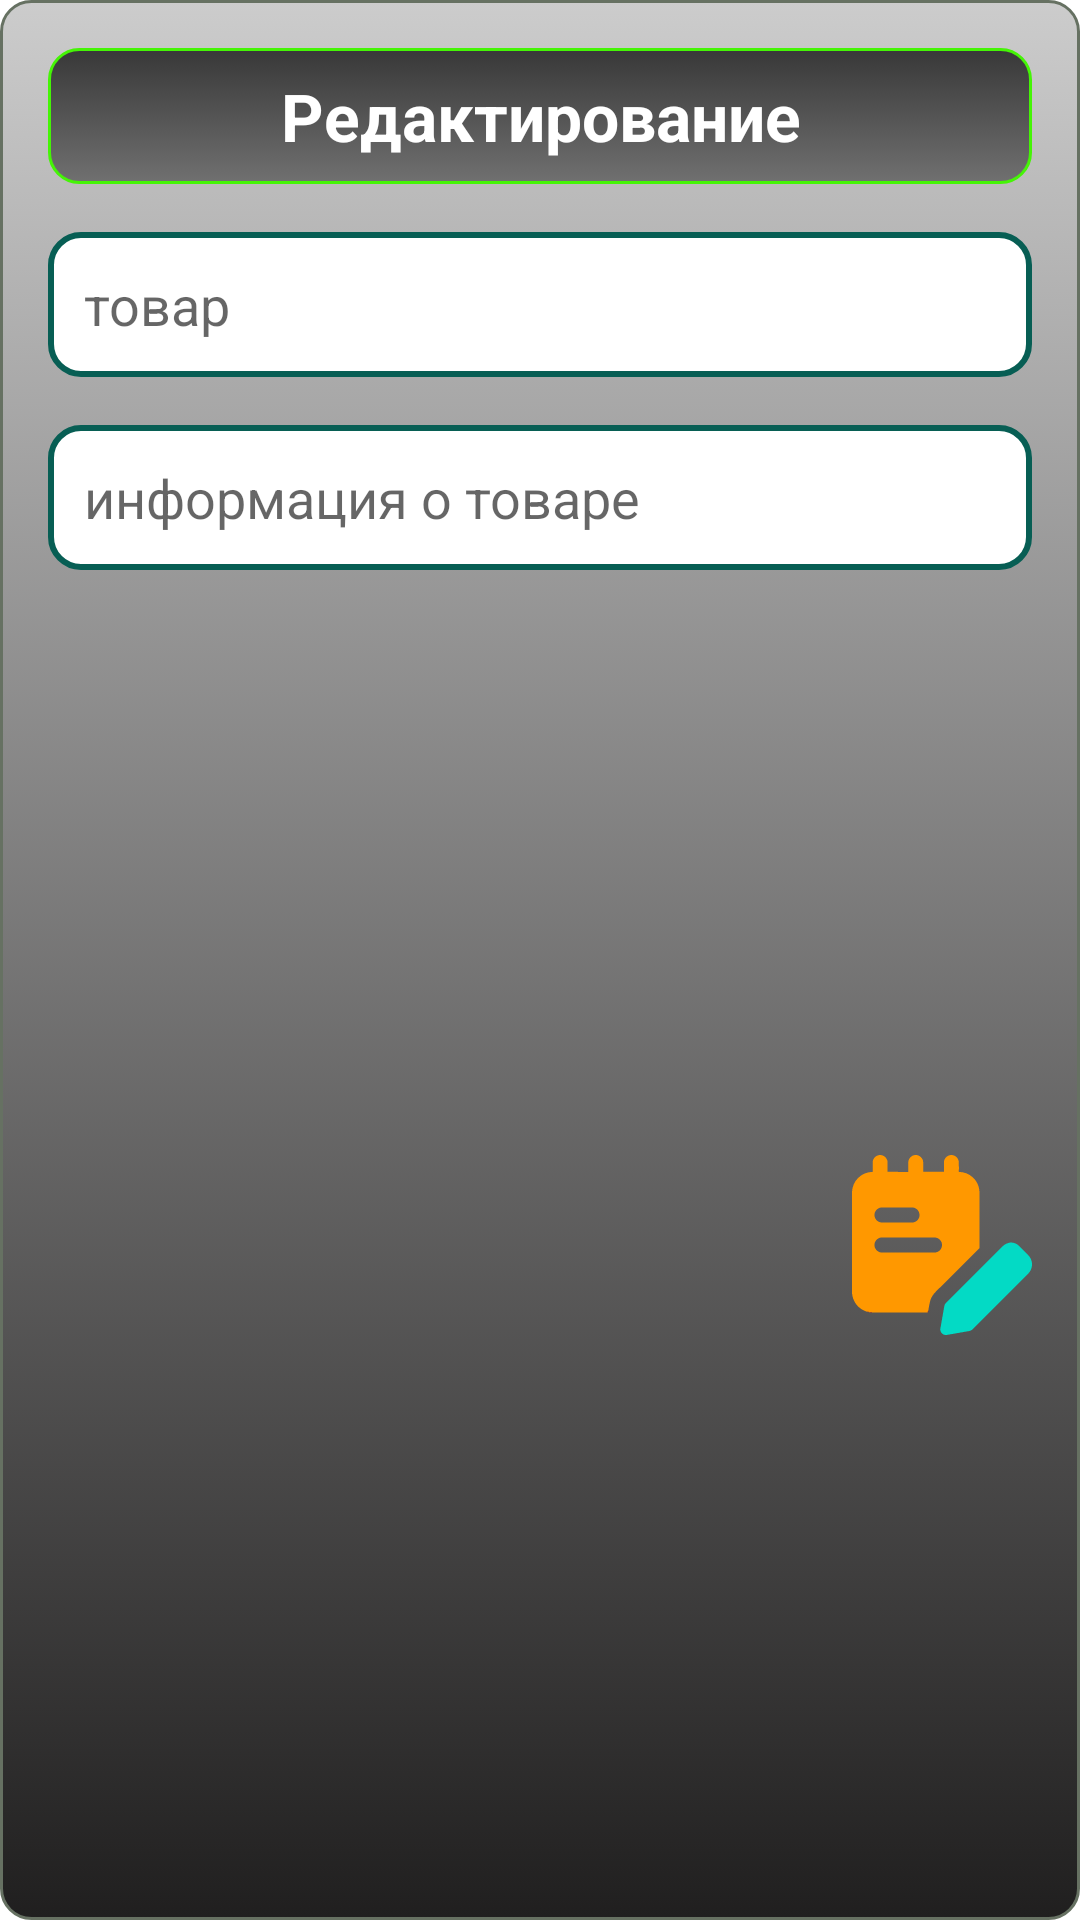

Where icons sit on this 1080x1920 app screen, as (x1, y1, x2, y2):
edit note: (852, 1155, 1032, 1335)
